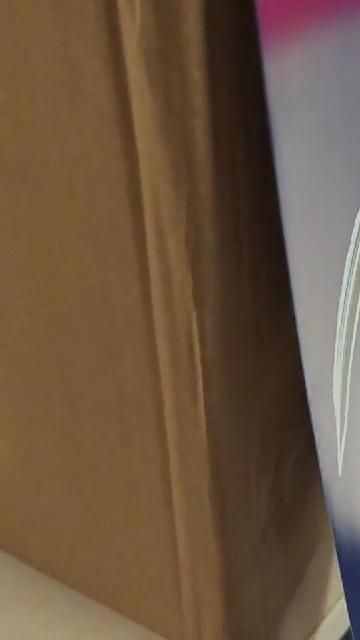B_R1: (336, 0, 360, 467)
